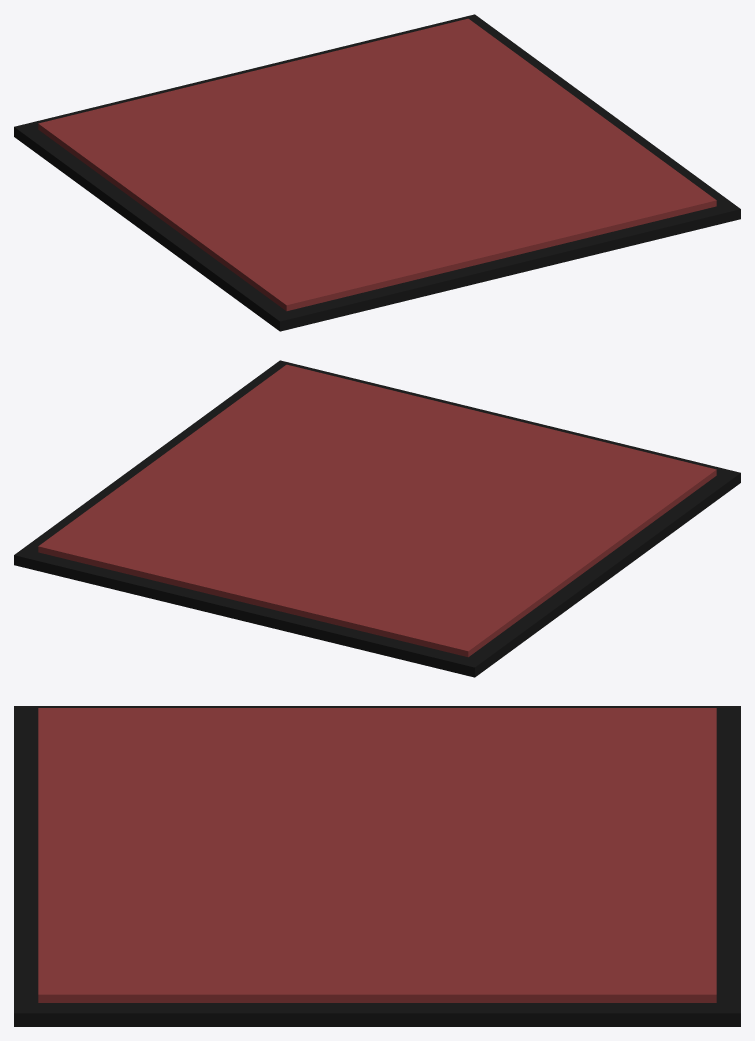
The model's file is Button.glb.
3 renders of one model, top to bottom at view 1: azimuth 30°, elevation 25°; view 2: azimuth 150°, elevation 25°; view 3: azimuth 270°, elevation 25°, orthographic. The views are drawn at different scales.
Visible parts, largest first — view 1: Button; view 2: Button; view 3: Button.
Part boxes in pixels (<box>): Button: <box>14,14,740,331</box>; Button: <box>14,360,740,677</box>; Button: <box>14,706,740,1026</box>.
Size of the model in its own units: 1.2 by 0.04 by 1.2.
